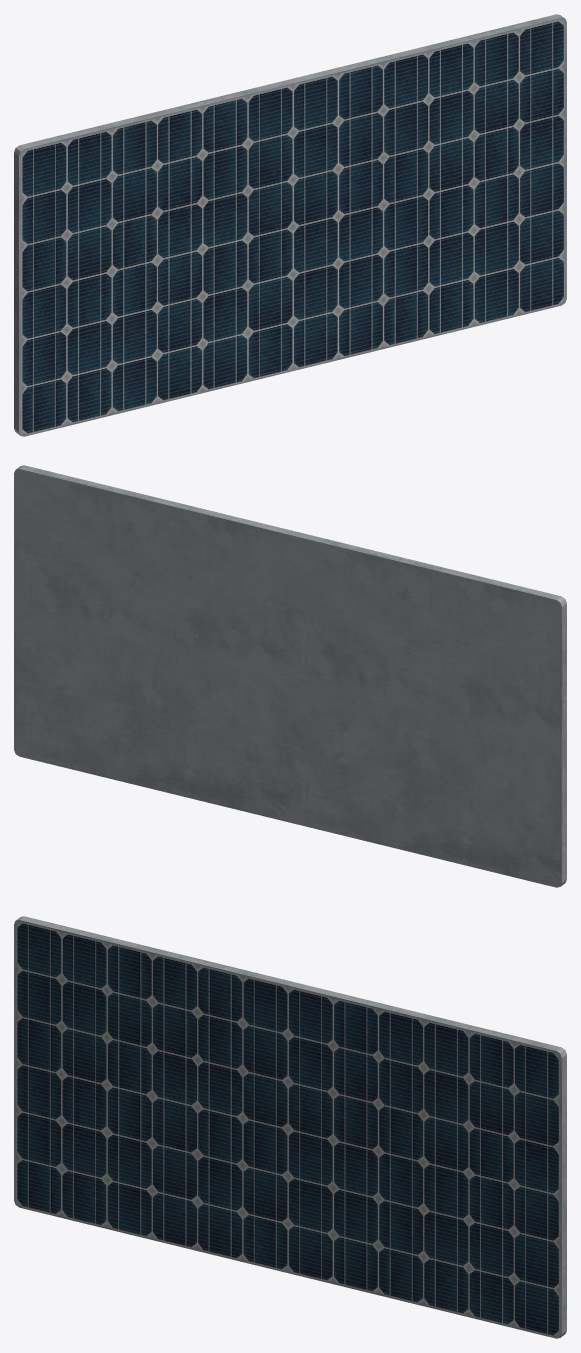
File: solar-panel-1k.glb
3 views of the same model, one above another, from view 1: azimuth 30°, elevation 25°; view 2: azimuth 150°, elevation 25°; view 3: azimuth 330°, elevation 25° (orthographic).
Visible parts, largest first — view 1: SolarPanel; view 2: SolarPanel; view 3: SolarPanel.
Part boxes in pixels (bbox=[...]): SolarPanel: bbox=[14, 14, 566, 436]; SolarPanel: bbox=[14, 465, 566, 887]; SolarPanel: bbox=[14, 916, 566, 1338].
Bounding box in the file's own units: 1.86 × 0.935 × 0.03.
1 material, 1 textured.
